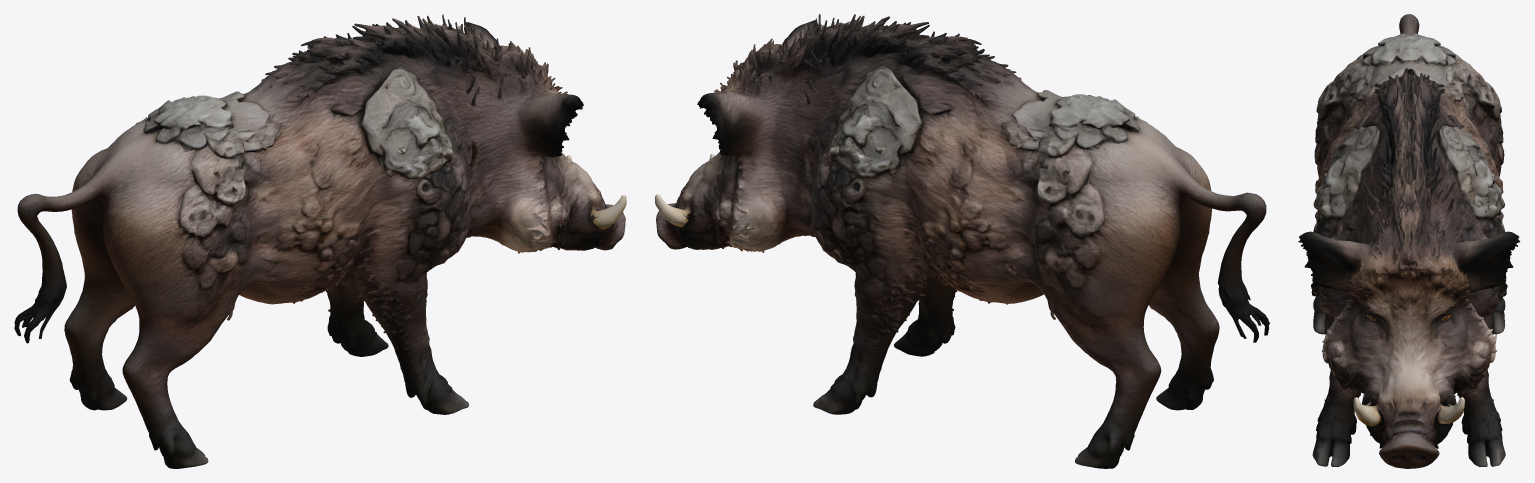
Rendered from Tripo_RockBoar_H31_Original.glb.
The picture shows the model from 3 angles, left to right: view 1: azimuth 30°, elevation 25°; view 2: azimuth 150°, elevation 25°; view 3: azimuth 270°, elevation 25°; orthographic projection. The views are drawn at different scales.
Visible parts, largest first — view 1: tripo_node_28f57ff9-b978-468c-8c2a-6136e0a65ea1; view 2: tripo_node_28f57ff9-b978-468c-8c2a-6136e0a65ea1; view 3: tripo_node_28f57ff9-b978-468c-8c2a-6136e0a65ea1.
Part boxes in pixels (box(x1,y1,x2,y2)): tripo_node_28f57ff9-b978-468c-8c2a-6136e0a65ea1: box(14, 14, 626, 468); tripo_node_28f57ff9-b978-468c-8c2a-6136e0a65ea1: box(655, 14, 1269, 468); tripo_node_28f57ff9-b978-468c-8c2a-6136e0a65ea1: box(1298, 14, 1520, 468).
Bounding box in the file's own units: 1 × 0.5737 × 0.3293.
1 material, 1 textured.
